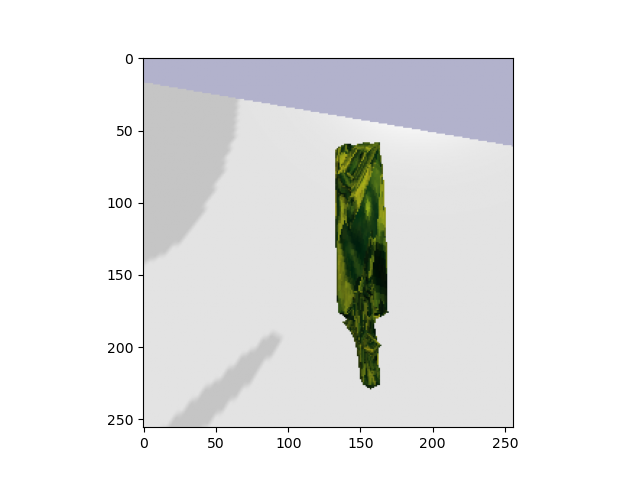v249b387_108: (317, 129, 413, 393)
